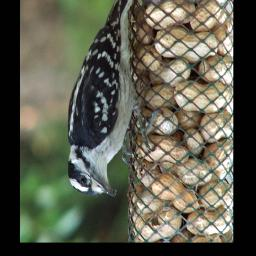Woodpecker: (55, 0, 158, 201)
